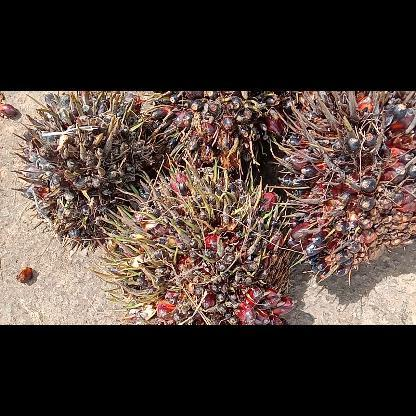TBS abnormal: (105, 164, 294, 322), (276, 92, 414, 286), (17, 92, 150, 248), (142, 91, 296, 171)
